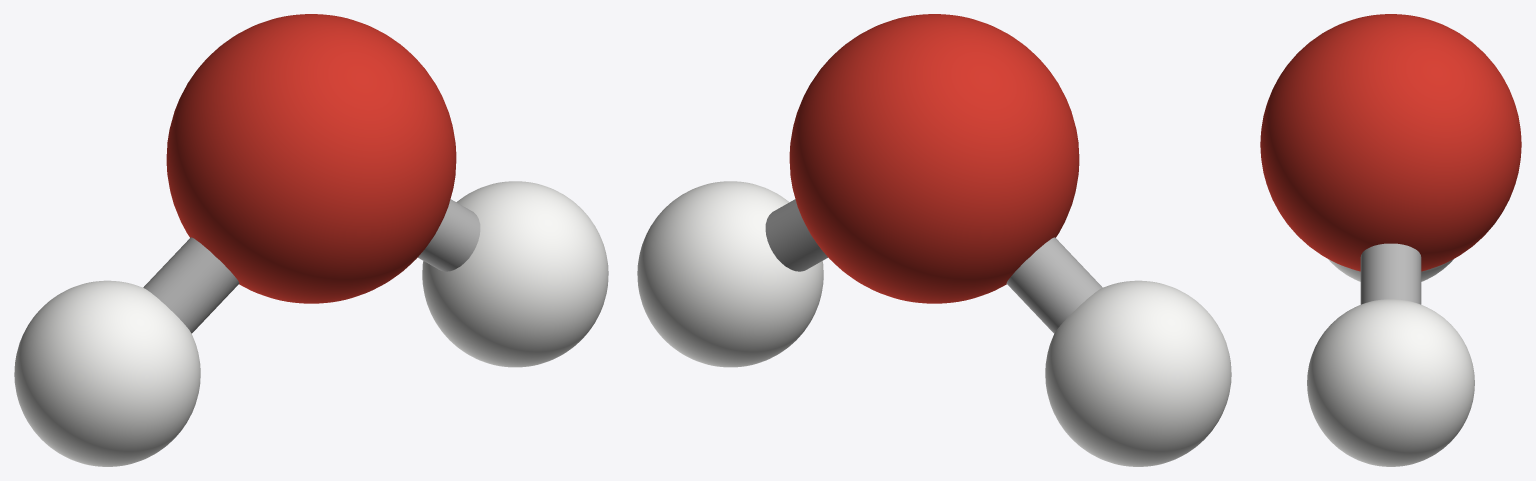
The model's file is water-molecule.glb.
3 views of the same model, side by side, from view 1: azimuth 30°, elevation 25°; view 2: azimuth 150°, elevation 25°; view 3: azimuth 270°, elevation 25° (orthographic). The views are drawn at different scales.
Parts seen in each view (by area): view 1: Atoms_Oxygen, Atoms_Hydrogen, Bonds; view 2: Atoms_Oxygen, Atoms_Hydrogen, Bonds; view 3: Atoms_Oxygen, Atoms_Hydrogen, Bonds.
Part boxes in pixels (x1,y1,x2,y2): Atoms_Oxygen: [166, 14, 456, 303]; Atoms_Hydrogen: [14, 181, 608, 466]; Bonds: [143, 199, 480, 333]; Atoms_Oxygen: [789, 14, 1079, 303]; Atoms_Hydrogen: [637, 181, 1231, 466]; Bonds: [765, 199, 1102, 333]; Atoms_Oxygen: [1260, 14, 1521, 271]; Atoms_Hydrogen: [1307, 259, 1474, 466]; Bonds: [1360, 243, 1421, 304].
Bounding box in the file's own units: 0.2539 × 0.1624 × 0.112.
